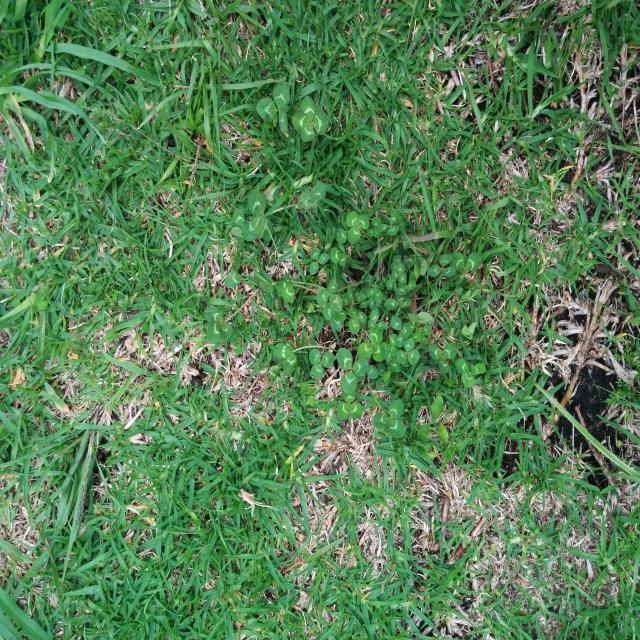Four Leaf Clover: (292, 95, 329, 142)
